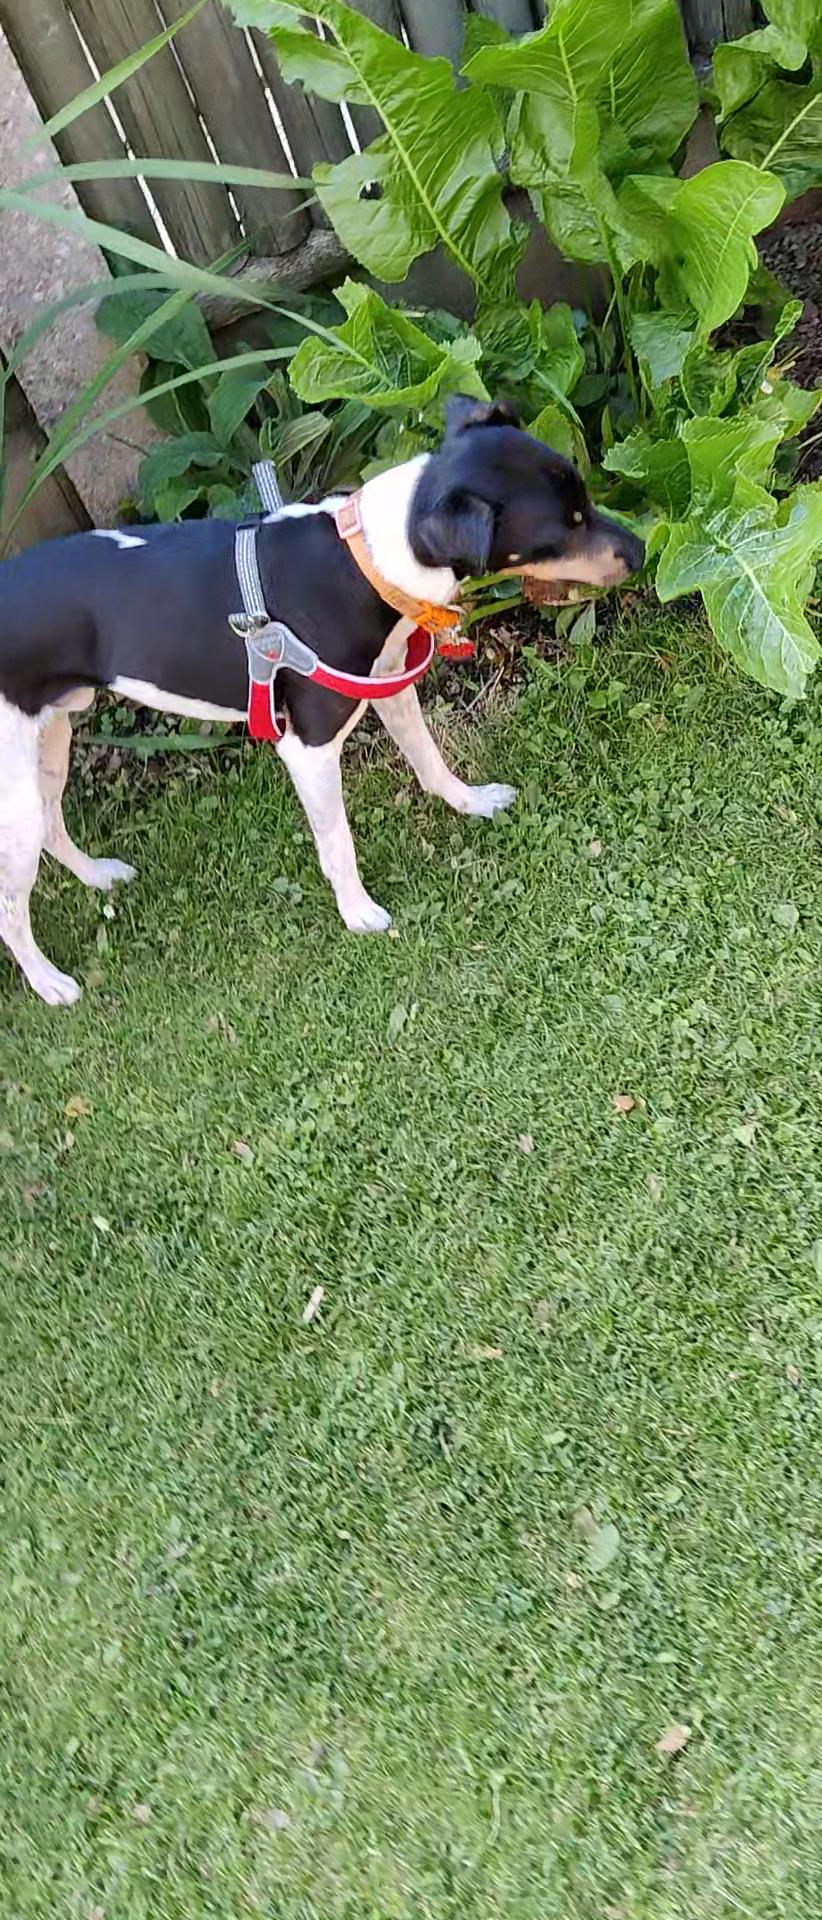Dog: (0, 375, 688, 1015)
